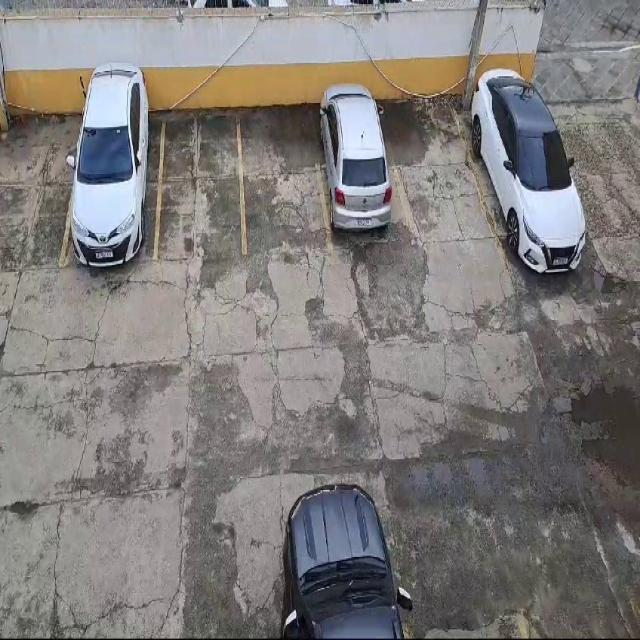empty: (382, 97, 495, 243), (238, 103, 329, 252), (155, 109, 244, 260)
notEmpty: (452, 98, 585, 264), (60, 111, 167, 266), (311, 100, 415, 256)
